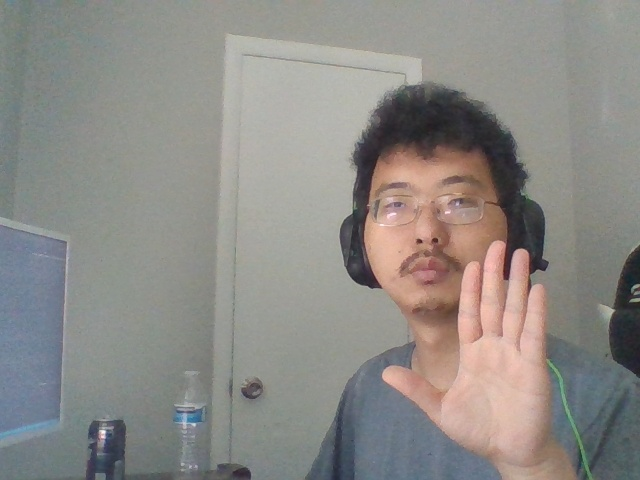ThankYou: (382, 240, 554, 460)
